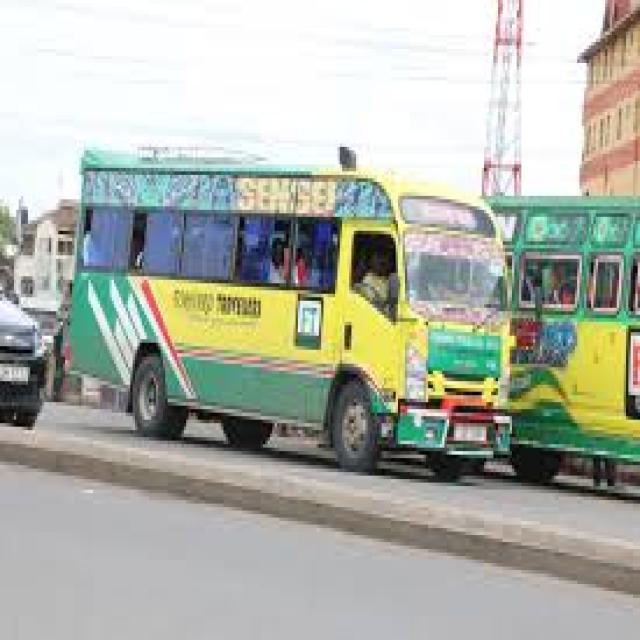bus: (53, 92, 539, 484)
